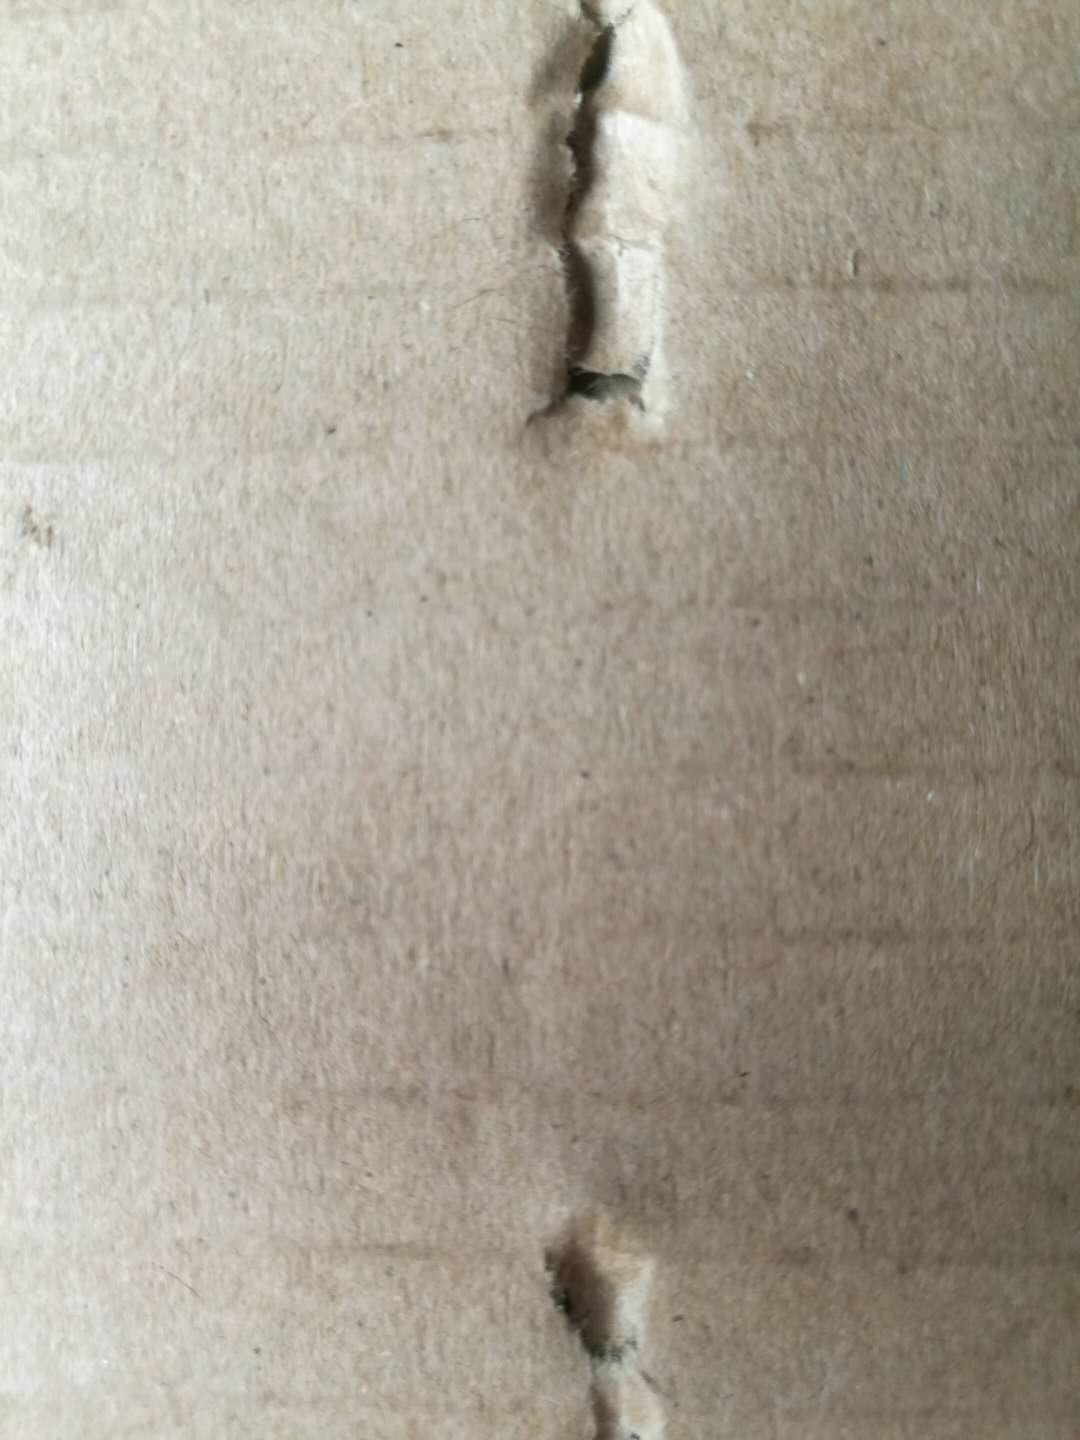defect: (459, 1, 737, 488), (493, 1179, 711, 1440)
